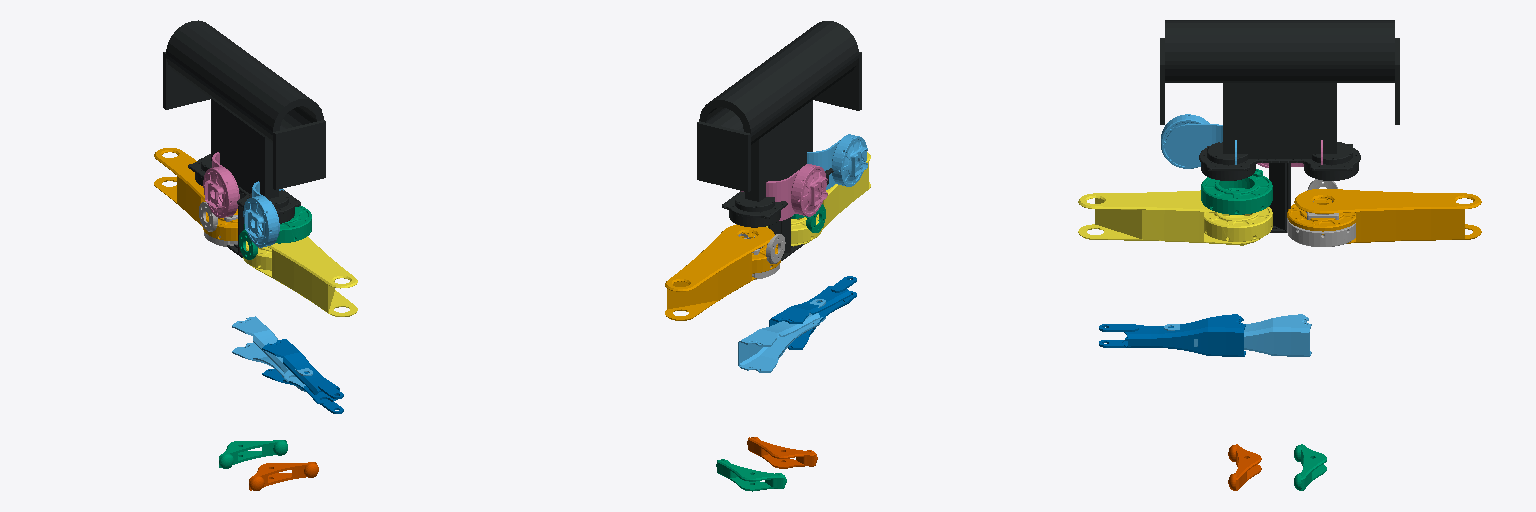
URDF robot description (TELLO):
<robot name="TELLO" xmlns:xacro="http://ros.org/wiki/xacro">
  <!-- ===== DUMMY 'BASE' LINK ==== -->
  <link name="BODY">
    <inertial>
      <mass value="9.807"/>
      <origin xyz="0.0 0.0 0.1345"/>
      <inertia ixx="0.188824827" ixy="0.000008407" ixz="-0.000015445" iyy="0.083219132" iyz="	0.000010634" izz="0.119998911"/>
    </inertial>
    <visual>
      <geometry>
        <mesh filename="meshes/BODY.dae" scale="1 1 1"/>
      </geometry>
      <origin rpy="0.0 0.0 0.0" xyz="0.0 0.0 0.0"/>
    </visual>
  </link>
  <!--!!!!!!!!!!!!!!!!!!!!!RIGHT LEG!!!!!!!!!!!!!!!!!!!!!!!!!!!!!!!!!!!!!!!!!!!!!!!!-->
  <joint name="torso_to_R_HipRz" type="continuous">
    <axis xyz="0 0 1"/>
    <origin rpy="0 0 0" xyz="0.0 -0.075 0.0"/>
    <parent link="BODY"/>
    <child link="R_HipRz"/>
  </joint>
  <link name="R_HipRz">
    <inertial>
      <mass value="0.30"/>
      <origin xyz="0.0 0.00 -0.04293"/>
      <inertia ixx="0.003735" ixy="0.0" ixz="0.0" iyy="0.01391" iyz="0.0" izz="0.01355"/>
    </inertial>
    <visual>
      <geometry>
         <mesh filename="meshes_humanoid/HipRz.dae" scale="1 1 1"/>
      </geometry>
      <origin rpy="-1.5707 0 0.0" xyz="0. 0. 0"/>
    </visual>
   </link>

  <joint name="R_HipRz_to_R_HipRx" type="continuous">
    <axis xyz="1 0 0"/>
    <origin rpy="0 0 0" xyz="-0.041 0.0 -0.0885"/>
    <parent link="R_HipRz"/>
    <child link="R_HipRx"/>
  </joint>
  <link name="R_HipRx">
    <inertial>
      <mass value="0.30"/>
      <origin xyz="0.0 0.0 -0.01"/>
      <inertia ixx="0.003735" ixy="0.0" ixz="0.0" iyy="0.01391" iyz="0.0" izz="0.01355"/>
    </inertial>
    <visual>
      <geometry>
         <mesh filename="meshes_humanoid/HipRx.dae" scale="1 1 1"/>
      </geometry>
      <origin rpy="-1.5707 0 0.0" xyz="0. 0. 0"/>
    </visual>
   </link>

  <joint name="R_HipRx_to_R_Thigh" type="continuous">
    <axis xyz="0 1 0"/>
    <origin rpy="0 0 0" xyz="0.065 0.0 0.0"/>
    <parent link="R_HipRx"/>
    <child link="R_Thigh"/>
  </joint>
  <link name="R_Thigh">
    <inertial>
      <mass value="1.0"/>
      <origin xyz="0.0 0.0 -0.10"/>
      <inertia ixx="0.003735" ixy="0.0" ixz="0.0" iyy="0.01391" iyz="0.0" izz="0.01355"/>
    </inertial>
    <visual>
        <geometry>
          <mesh filename="meshes_humanoid/Thigh.dae" scale="1 1 1"/>
     </geometry>
      <origin rpy="-1.5707 0 0" xyz="0.0 0.0 0.0"/>
    </visual>
   </link>

  <joint name="R_Knee" type="continuous">
    <axis xyz="0 1 0"/>
    <origin rpy="0 0 0" xyz="0.0 0.017875 -0.247"/>
    <parent link="R_Thigh"/>
    <child link="R_Shank"/>
  </joint>
  <link name="R_Shank">
    <inertial>
      <mass value="0.70"/>
      <origin xyz="-0.03416 -0.00075 -0.01"/>
      <inertia ixx="0.003735" ixy="0.0" ixz="0.0" iyy="0.01391" iyz="0.0" izz="0.01355"/>
    </inertial>
    <visual>
      <geometry>
         <mesh filename="meshes_humanoid/LowerLeg3_drawing.dae" scale="1 1 1"/>
      </geometry>
      <origin rpy="-1.5707 0 0.0" xyz="0. 0. 0"/>
    </visual>
  </link>

  <joint name="R_Ankle" type="continuous">
    <axis xyz="0 1 0"/>
    <origin rpy="0 0 0" xyz="0.0 0.0 -0.247"/>
    <parent link="R_Shank"/>
    <child link="R_FOOT"/>
  </joint>
  <link name="R_FOOT">
    <inertial>
      <mass value="0.30"/>
      <origin xyz="0.0 0.0 -0.01"/>
      <inertia ixx="0.003735" ixy="0.0" ixz="0.0" iyy="0.01391" iyz="0.0" izz="0.01355"/>
    </inertial>
    <visual>
      <geometry>
        <mesh filename="meshes_humanoid/foot_drawing.dae" scale="1 1 1"/>
      </geometry>
      <origin rpy="-1.5707 0 0.0" xyz="0. 0. 0"/>
    </visual>
  </link>

  <!--!!!!!!!!!!!!!!!!!!!!!LEFT LEG!!!!!!!!!!!!!!!!!!!!!!!!!!!!!!!!!!!!!!!!!!!!!!!!-->
  <joint name="torso_to_L_HipRz" type="continuous">
    <axis xyz="0 0 1"/>
    <origin rpy="0 0 0" xyz="0.0 0.075 0.0"/>
    <parent link="BODY"/>
    <child link="L_HipRz"/>
  </joint>
  <link name="L_HipRz">
    <inertial>
      <mass value="0.30"/>
      <origin xyz="0.0 0.00 -0.04293"/>
      <inertia ixx="0.003735" ixy="0.0" ixz="0.0" iyy="0.01391" iyz="0.0" izz="0.01355"/>
    </inertial>
    <visual>
      <geometry>
         <mesh filename="meshes_humanoid/HipRz.dae" scale="1 1 1"/>
      </geometry>
      <origin rpy="-1.5707 0 0.0" xyz="0. 0. 0"/>
    </visual>
   </link>

  <joint name="L_HipRz_to_L_HipRx" type="continuous">
    <axis xyz="1 0 0"/>
    <origin rpy="0 0 0" xyz="-0.041 0.0 -0.0885"/>
    <parent link="L_HipRz"/>
    <child link="L_HipRx"/>
  </joint>
  <link name="L_HipRx">
    <inertial>
      <mass value="0.30"/>
      <origin xyz="0.0 0.0 -0.01"/>
      <inertia ixx="0.003735" ixy="0.0" ixz="0.0" iyy="0.01391" iyz="0.0" izz="0.01355"/>
    </inertial>
    <visual>
      <geometry>
         <mesh filename="meshes_humanoid/HipRx.dae" scale="1 1 1"/>
      </geometry>
      <origin rpy="1.5707 0 0" xyz="0. 0. 0"/>
    </visual>
   </link>

  <joint name="L_HipRx_to_L_Thigh" type="continuous">
    <axis xyz="0 1 0"/>
    <origin rpy="0 0 0" xyz="0.065 0.0 0.0"/>
    <parent link="L_HipRx"/>
    <child link="L_Thigh"/>
  </joint>
  <link name="L_Thigh">
    <inertial>
      <mass value="1.0"/>
      <origin xyz="0.0 0.0 -0.10"/>
      <inertia ixx="0.003735" ixy="0.0" ixz="0.0" iyy="0.01391" iyz="0.0" izz="0.01355"/>
    </inertial>
    <visual>
        <geometry>
          <mesh filename="meshes_humanoid/Thigh.dae" scale="1 1 1"/>
     </geometry>
      <origin rpy="-1.5707 0 3.141592" xyz="0.0 0.0 0.0"/>
    </visual>
   </link>

  <joint name="L_Knee" type="continuous">
    <axis xyz="0 1 0"/>
    <origin rpy="0 0 0" xyz="0.0 -0.017875 -0.247"/>
    <parent link="L_Thigh"/>
    <child link="L_Shank"/>
  </joint>
  <link name="L_Shank">
    <inertial>
      <mass value="0.70"/>
      <origin xyz="-0.03416 -0.00075 -0.01"/>
      <inertia ixx="0.003735" ixy="0.0" ixz="0.0" iyy="0.01391" iyz="0.0" izz="0.01355"/>
    </inertial>
    <visual>
      <geometry>
         <mesh filename="meshes_humanoid/LowerLeg3_drawing.dae" scale="1 1 1"/>
      </geometry>
      <origin rpy="-1.5707 0 0.0" xyz="0. 0. 0"/>
    </visual>
  </link>

  <joint name="L_Ankle" type="continuous">
    <axis xyz="0 1 0"/>
    <origin rpy="0 0 0" xyz="0.0 0.0 -0.247"/>
    <parent link="L_Shank"/>
    <child link="L_FOOT"/>
  </joint>
  <link name="L_FOOT">
    <inertial>
      <mass value="0.30"/>
      <origin xyz="0.0 0.0 -0.01"/>
      <inertia ixx="0.003735" ixy="0.0" ixz="0.0" iyy="0.01391" iyz="0.0" izz="0.01355"/>
    </inertial>
    <visual>
      <geometry>
        <mesh filename="meshes_humanoid/foot_drawing.dae" scale="1 1 1"/>
      </geometry>
      <origin rpy="-1.5707 0 0.0" xyz="0. 0. 0"/>
    </visual>
  </link>





</robot>

--- Facts derived from the render (not from the file) ---
The picture shows the robot from 3 angles, left to right: view 1: azimuth 30°, elevation 25°; view 2: azimuth 150°, elevation 25°; view 3: azimuth 270°, elevation 25°; orthographic projection.
Robot: TELLO — 11 links, 10 joints (10 continuous); root link BODY; default pose: every joint at zero.
Visible links, largest first — view 1: BODY, R_Thigh, L_Thigh, R_Shank, L_Shank, R_HipRz, L_HipRz, R_HipRx, R_FOOT, L_FOOT, L_HipRx; view 2: BODY, L_Thigh, L_Shank, L_HipRz, R_HipRz, R_Shank, R_Thigh, R_FOOT, L_FOOT, L_HipRx; view 3: BODY, L_Thigh, R_Thigh, R_Shank, L_Shank, R_HipRz, R_HipRx, L_HipRx, R_FOOT, L_FOOT.
Link boxes in pixels (x1=…): BODY: x1=163, y1=20, x2=325, y2=257; R_Thigh: x1=243, y1=236, x2=357, y2=316; L_Thigh: x1=154, y1=148, x2=237, y2=240; R_Shank: x1=262, y1=339, x2=343, y2=413; L_Shank: x1=232, y1=316, x2=312, y2=391; R_HipRz: x1=243, y1=181, x2=283, y2=247; L_HipRz: x1=203, y1=152, x2=239, y2=217; R_HipRx: x1=239, y1=206, x2=311, y2=259; R_FOOT: x1=249, y1=462, x2=318, y2=490; L_FOOT: x1=219, y1=440, x2=287, y2=468; L_HipRx: x1=199, y1=202, x2=237, y2=246; BODY: x1=697, y1=21, x2=861, y2=260; L_Thigh: x1=665, y1=224, x2=780, y2=320; L_Shank: x1=738, y1=299, x2=825, y2=372; L_HipRz: x1=741, y1=164, x2=827, y2=220; R_HipRz: x1=807, y1=134, x2=867, y2=189; R_Shank: x1=769, y1=276, x2=856, y2=349; R_Thigh: x1=766, y1=152, x2=870, y2=246; R_FOOT: x1=747, y1=437, x2=817, y2=468; L_FOOT: x1=716, y1=459, x2=786, y2=491; L_HipRx: x1=738, y1=233, x2=785, y2=279; BODY: x1=1160, y1=20, x2=1399, y2=232; L_Thigh: x1=1287, y1=189, x2=1481, y2=243; R_Thigh: x1=1078, y1=190, x2=1272, y2=245; R_Shank: x1=1099, y1=314, x2=1245, y2=356; L_Shank: x1=1164, y1=314, x2=1311, y2=356; R_HipRz: x1=1161, y1=114, x2=1236, y2=168; R_HipRx: x1=1201, y1=169, x2=1272, y2=214; L_HipRx: x1=1287, y1=179, x2=1355, y2=246; R_FOOT: x1=1228, y1=444, x2=1261, y2=490; L_FOOT: x1=1294, y1=444, x2=1326, y2=490.
Bounding box of the posed robot: 0.1935 × 0.704 × 0.8525 m (x, y, z).
11 mesh visuals loaded from 6 distinct referenced files (6 Collada DAE).